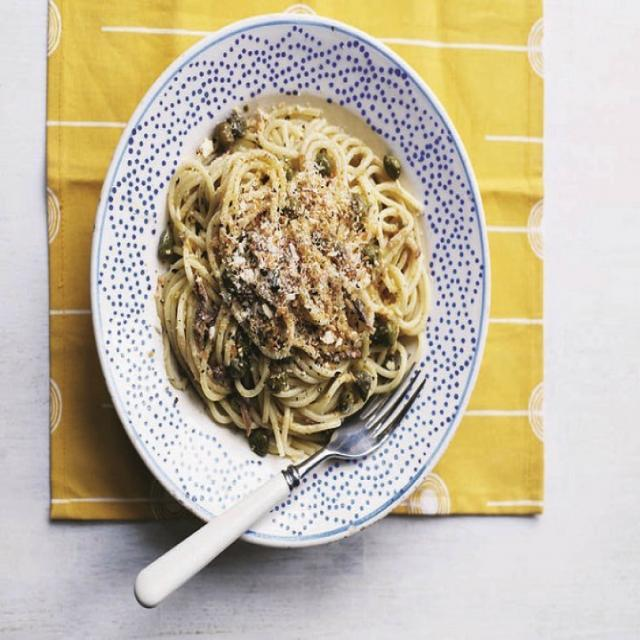Oil pasta: (144, 66, 475, 510)
